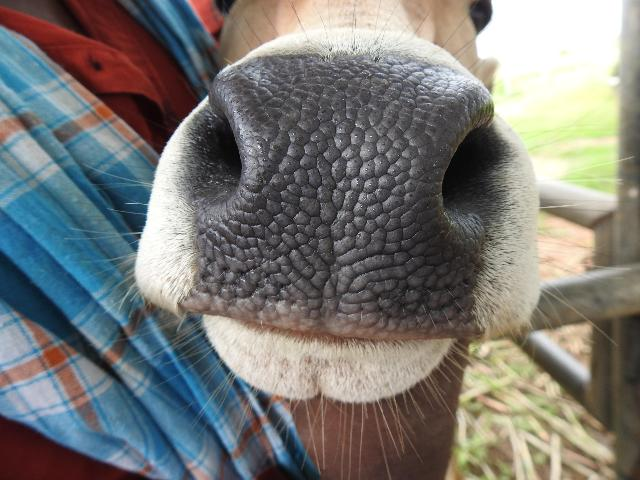Muzzle: (238, 66, 430, 306)
